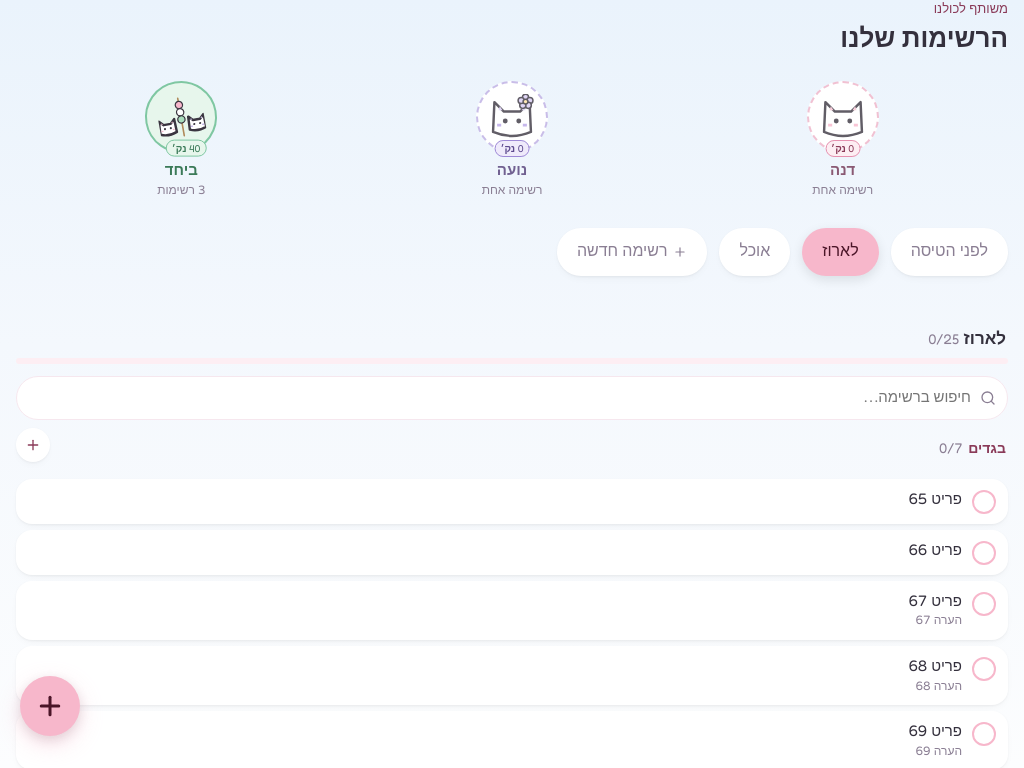
Test: reordering the lists › asks for the code when the hold begins on a phone without one, and lifts nothing
Press the mouse on the link "אוכל" at (755, 252), box [720, 228, 790, 276]
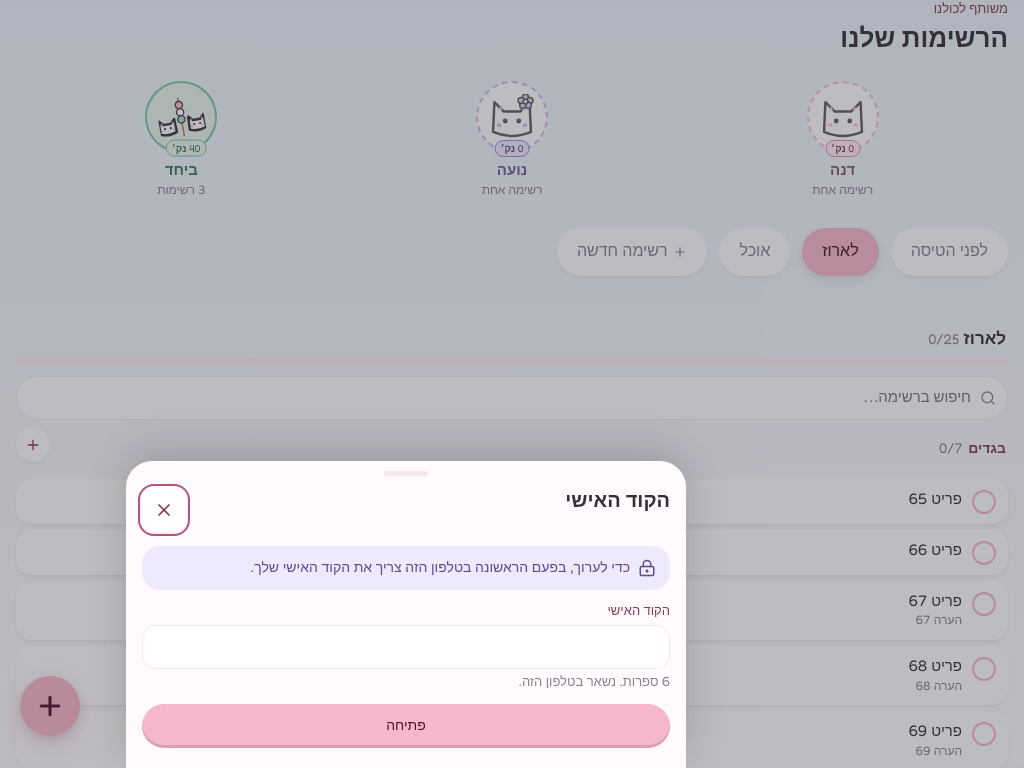
Check: the dialog "הקוד האישי" is shown, box [126, 461, 686, 767]
